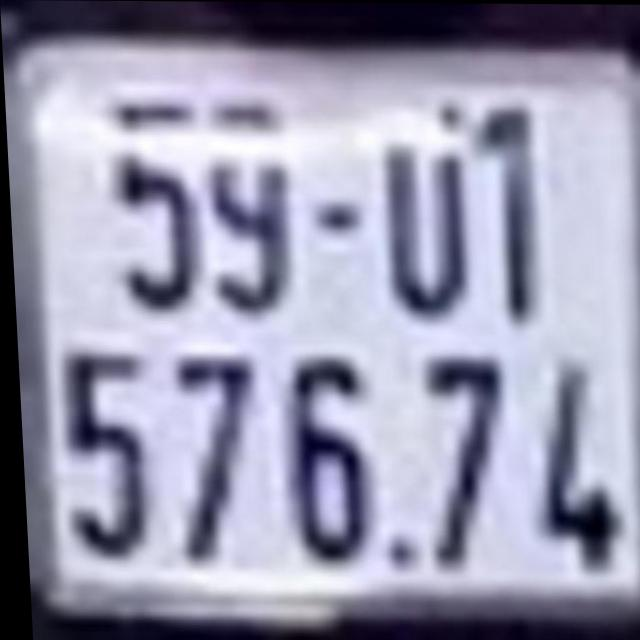1: (480, 95, 532, 328)
4: (536, 354, 617, 568)
5: (55, 352, 149, 564), (117, 101, 193, 310)
6: (290, 350, 357, 557)
7: (413, 351, 511, 563), (162, 346, 254, 554)
9: (214, 96, 290, 309)
U: (376, 90, 472, 318)
